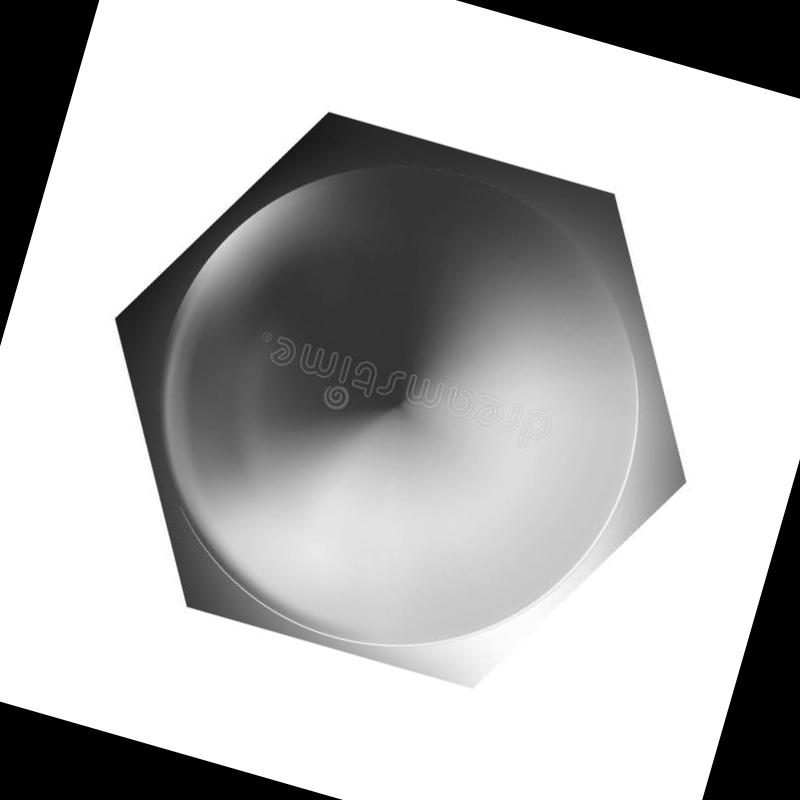hexagonal: (44, 68, 756, 732)
